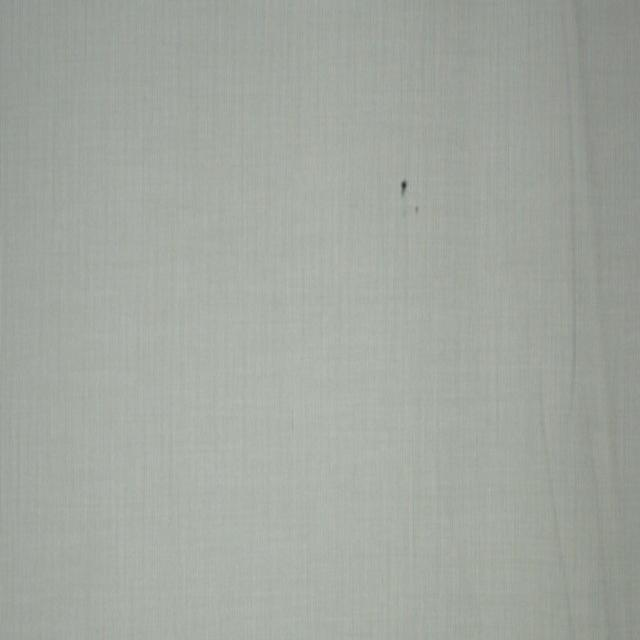dirty: (399, 205, 408, 218), (401, 180, 405, 196), (416, 206, 418, 215)
